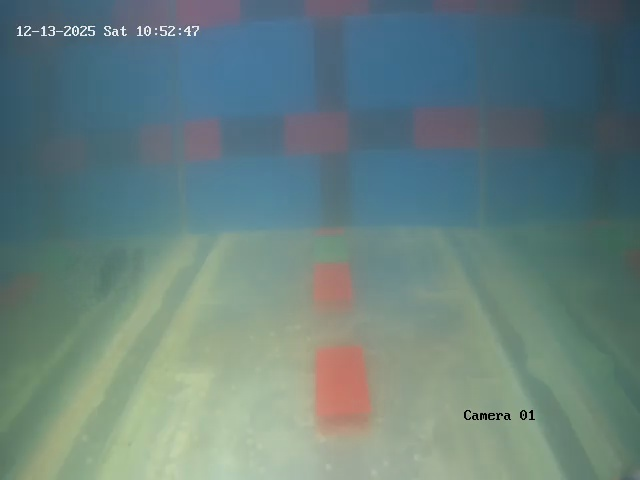fish: (125, 235, 162, 299)
